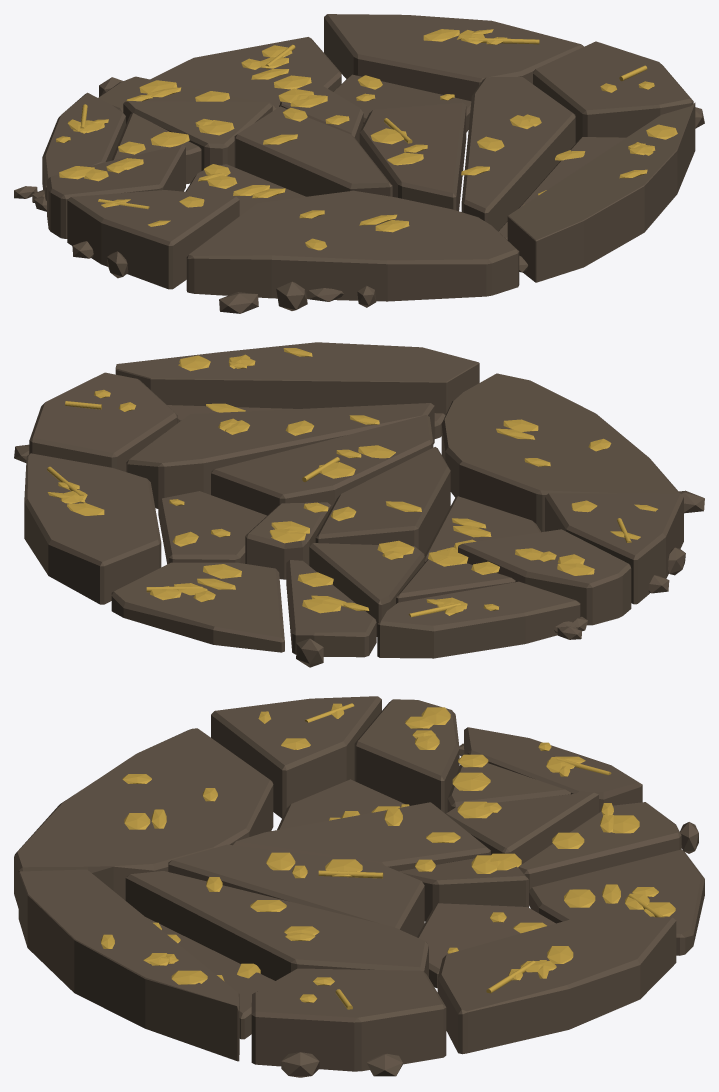
Rendered from SM_UraniumSurface.fbx.
The picture shows the model from 3 angles, top to bottom: view 1: azimuth 30°, elevation 25°; view 2: azimuth 150°, elevation 25°; view 3: azimuth 270°, elevation 25°; orthographic projection. The views are drawn at different scales.
Visible parts, largest first — view 1: SM_UraniumSurface; view 2: SM_UraniumSurface; view 3: SM_UraniumSurface.
Boxes of the visible parts, x1=… form: SM_UraniumSurface: x1=14, y1=14, x2=704, y2=313; SM_UraniumSurface: x1=14, y1=342, x2=704, y2=667; SM_UraniumSurface: x1=14, y1=696, x2=704, y2=1077.
Bounding box in the file's own units: 250 × 214 × 23.47.
